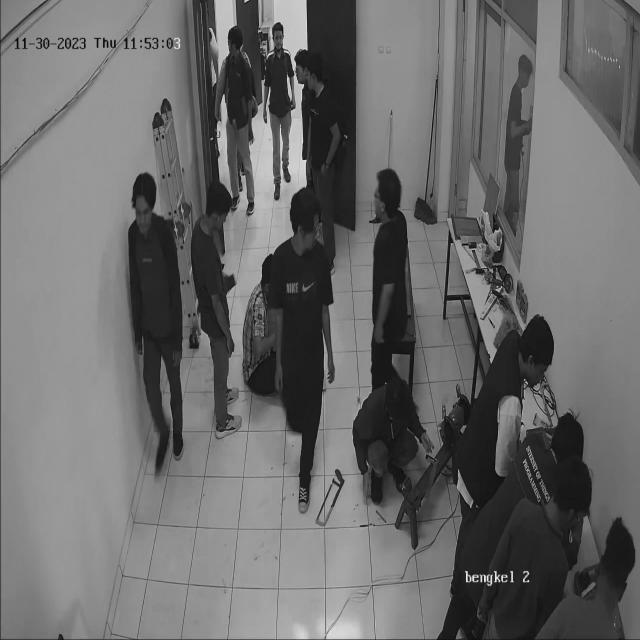person: (269, 184, 338, 538), (119, 170, 194, 484), (182, 170, 246, 468), (347, 360, 432, 534), (363, 160, 414, 402), (211, 21, 262, 225), (212, 15, 262, 218), (260, 12, 298, 202)
